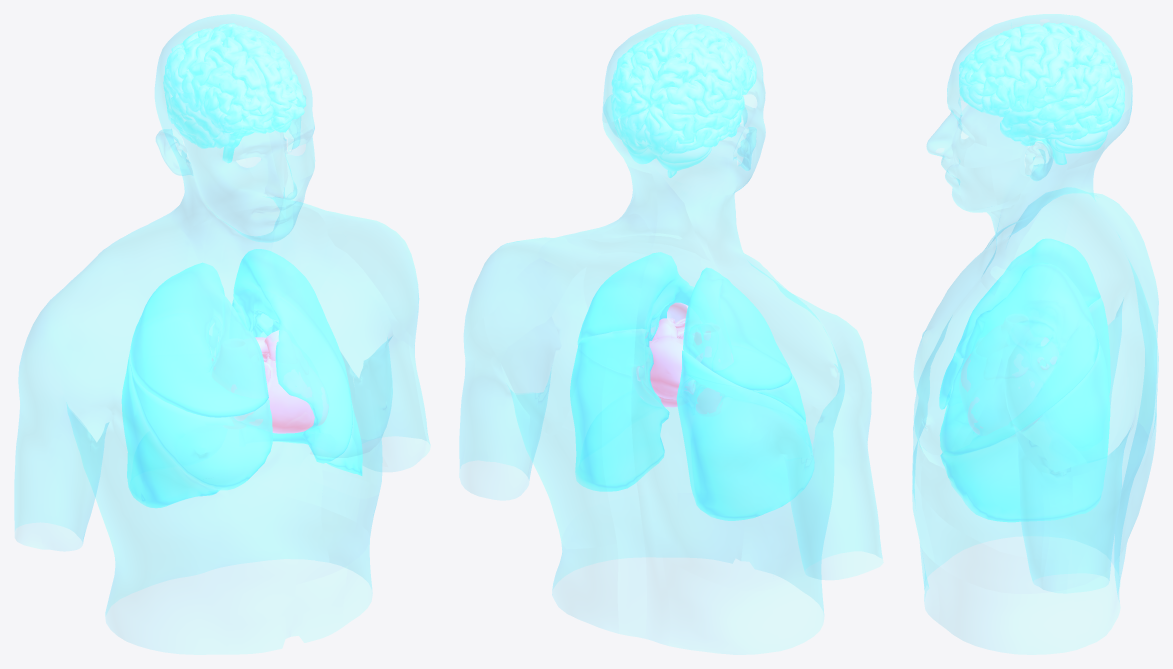
File: ares_upper_body_hologram.glb
The picture shows the model from 3 angles, left to right: view 1: azimuth 30°, elevation 25°; view 2: azimuth 150°, elevation 25°; view 3: azimuth 270°, elevation 25°; orthographic projection. The views are drawn at different scales.
Visible parts, largest first — view 1: BODY_SURFACE, LUNG_RIGHT, LUNG_LEFT, BRAIN, HEART; view 2: BODY_SURFACE, LUNG_RIGHT, LUNG_LEFT, BRAIN, HEART; view 3: BODY_SURFACE, LUNG_LEFT, BRAIN, LUNG_RIGHT, HEART.
Part boxes in pixels (x1,y1,x2,y2): BODY_SURFACE: [14, 14, 430, 654]; LUNG_RIGHT: [121, 262, 272, 508]; LUNG_LEFT: [232, 249, 362, 475]; BRAIN: [163, 23, 306, 163]; HEART: [212, 330, 328, 433]; BODY_SURFACE: [459, 14, 882, 654]; LUNG_RIGHT: [676, 267, 814, 520]; LUNG_LEFT: [570, 252, 694, 491]; BRAIN: [611, 24, 756, 177]; HEART: [636, 302, 732, 413]; BODY_SURFACE: [912, 14, 1158, 654]; LUNG_LEFT: [939, 262, 1110, 522]; BRAIN: [959, 22, 1124, 164]; LUNG_RIGHT: [939, 238, 1110, 409]; HEART: [961, 337, 1057, 434].
Bounding box in the file's own units: 0.5139 × 0.6892 × 0.2682.
